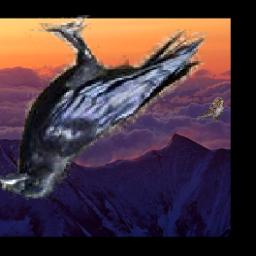Crow: (0, 16, 207, 205)
Sparrow: (197, 98, 224, 122)
